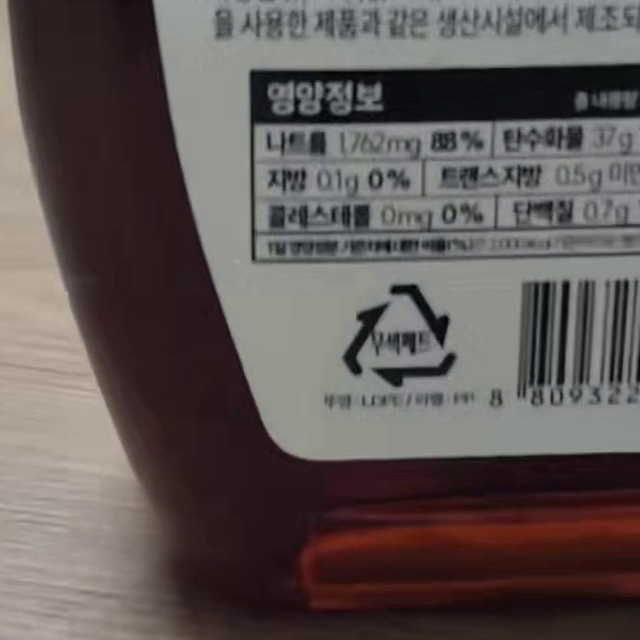ColorlessPet: (343, 283, 458, 387)
